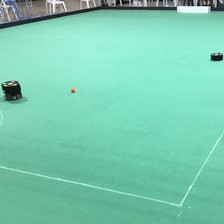ball: (69, 84, 76, 91)
goal: (173, 4, 211, 15)
robot: (1, 79, 21, 101), (209, 50, 224, 61)
